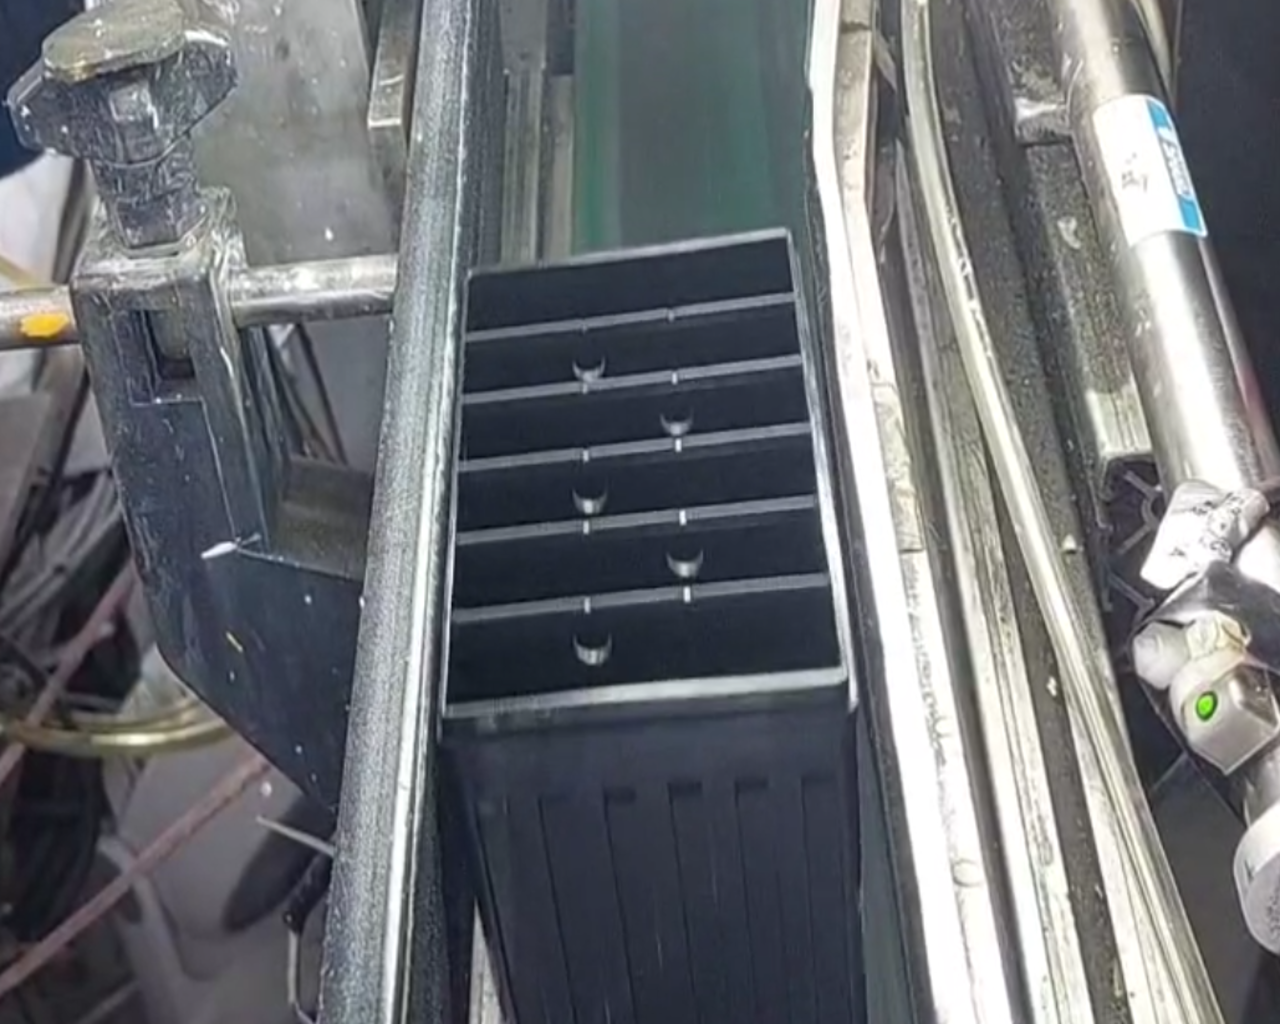box: (418, 211, 886, 739)
round: (556, 612, 629, 673), (650, 526, 718, 585), (642, 385, 707, 444), (559, 463, 621, 521), (556, 333, 620, 388)
